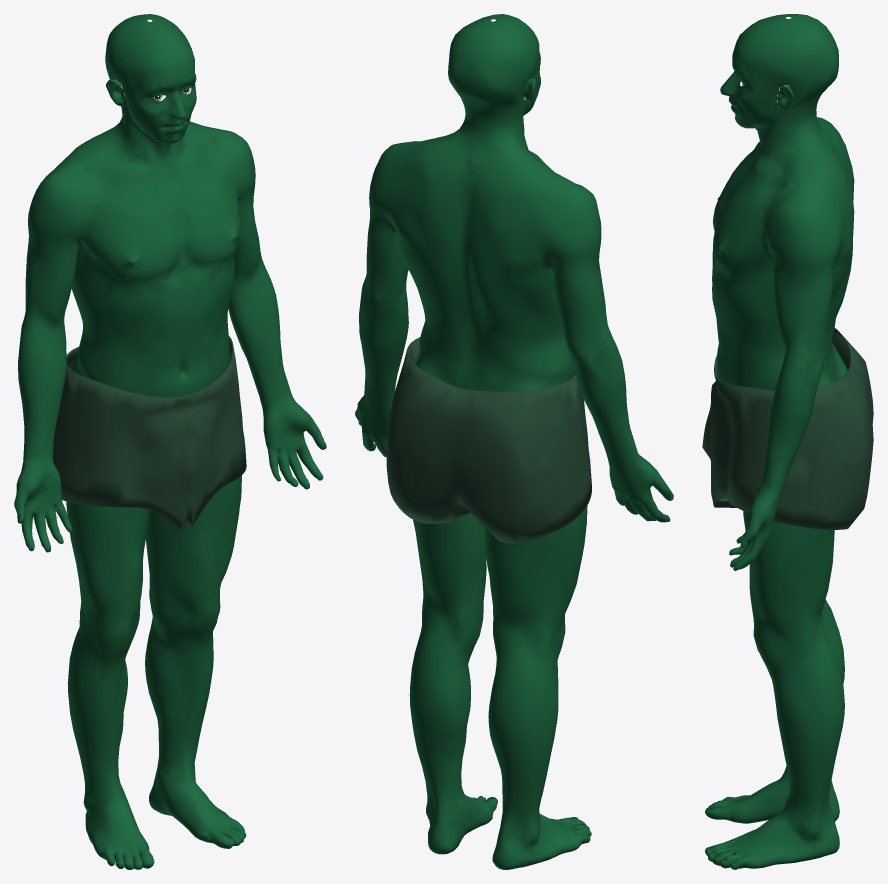
The picture shows the model from 3 angles, left to right: view 1: azimuth 30°, elevation 25°; view 2: azimuth 150°, elevation 25°; view 3: azimuth 270°, elevation 25°; orthographic projection.
Parts seen in each view (by area): view 1: base; view 2: base; view 3: base.
Boxes of the visible parts, box(x1,y1,x2,y2) form: base: box(14, 14, 326, 869); base: box(355, 14, 673, 869); base: box(702, 14, 873, 869).
Bounding box in the file's own units: 0.7955 × 2 × 0.3779.
